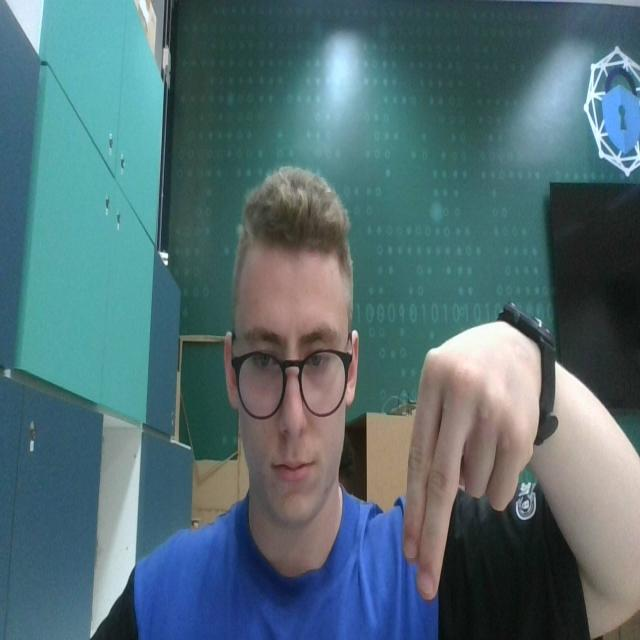N: (400, 315, 535, 608)
